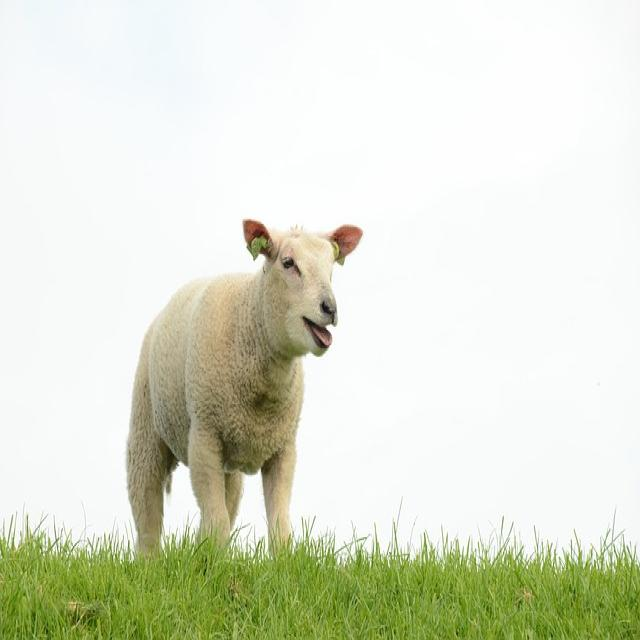goat: (126, 219, 362, 553)
